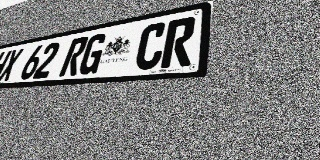2: (32, 41, 62, 79)
6: (18, 44, 47, 80)
C: (133, 21, 168, 71)
G: (76, 32, 109, 75)
H: (0, 50, 12, 83)
R: (160, 16, 197, 68), (58, 36, 90, 77)
X: (0, 48, 24, 82)
